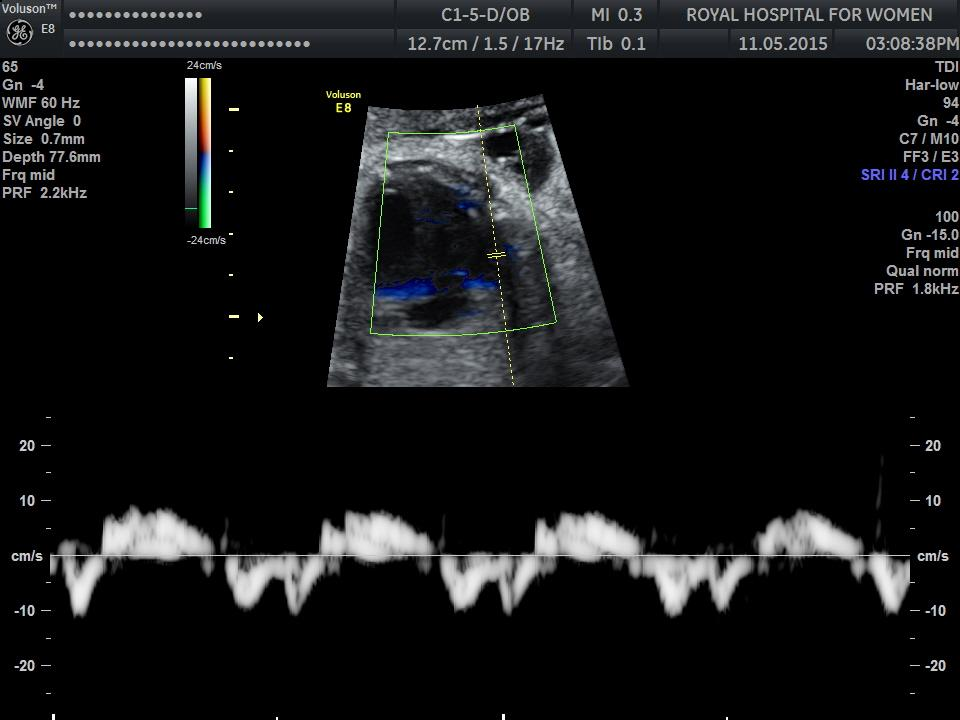Ultrasound-Waves: (52, 409, 909, 719)
